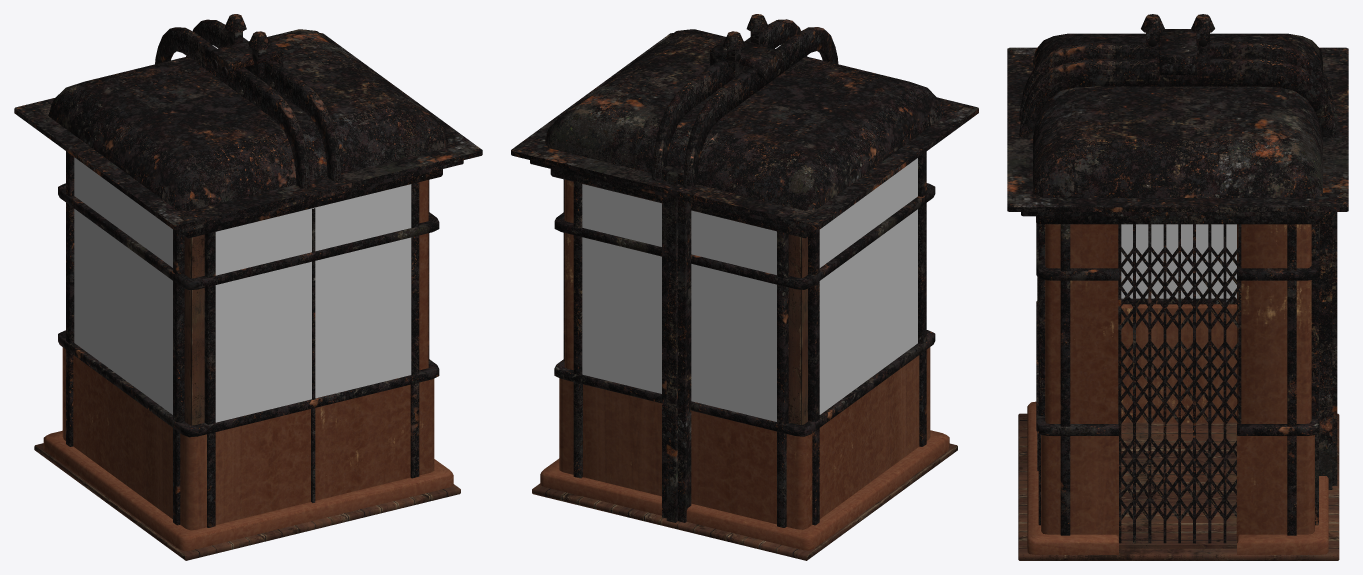
File: Greenhouse_Elevator01_03.FBX
3 renders of one model, left to right at view 1: azimuth 30°, elevation 25°; view 2: azimuth 150°, elevation 25°; view 3: azimuth 270°, elevation 25°, orthographic. The views are drawn at different scales.
Parts seen in each view (by area): view 1: Greenhouse_Elevator01_03; view 2: Greenhouse_Elevator01_03; view 3: Greenhouse_Elevator01_03.
Boxes of the visible parts, bbox=[...] form: Greenhouse_Elevator01_03: bbox=[14, 14, 482, 560]; Greenhouse_Elevator01_03: bbox=[511, 14, 978, 560]; Greenhouse_Elevator01_03: bbox=[1007, 14, 1348, 560].
Size of the model in its own units: 444 by 615 by 402.
